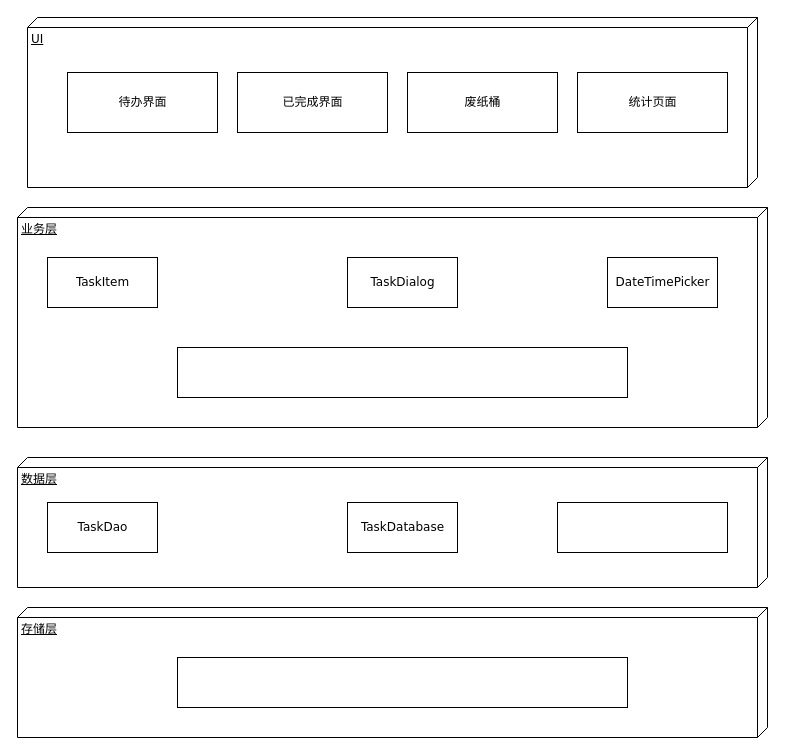
The diagram is 785 pixels wide and 755 high, and some of its shapes have lost their labels. Here are the shapes that lost their labels. From the top down, the centre of each, then its label:
At point 402,372: "TaskRepository".
At point 642,527: "LocalDateTimeConverter".
At point 402,682: "Room Database".
